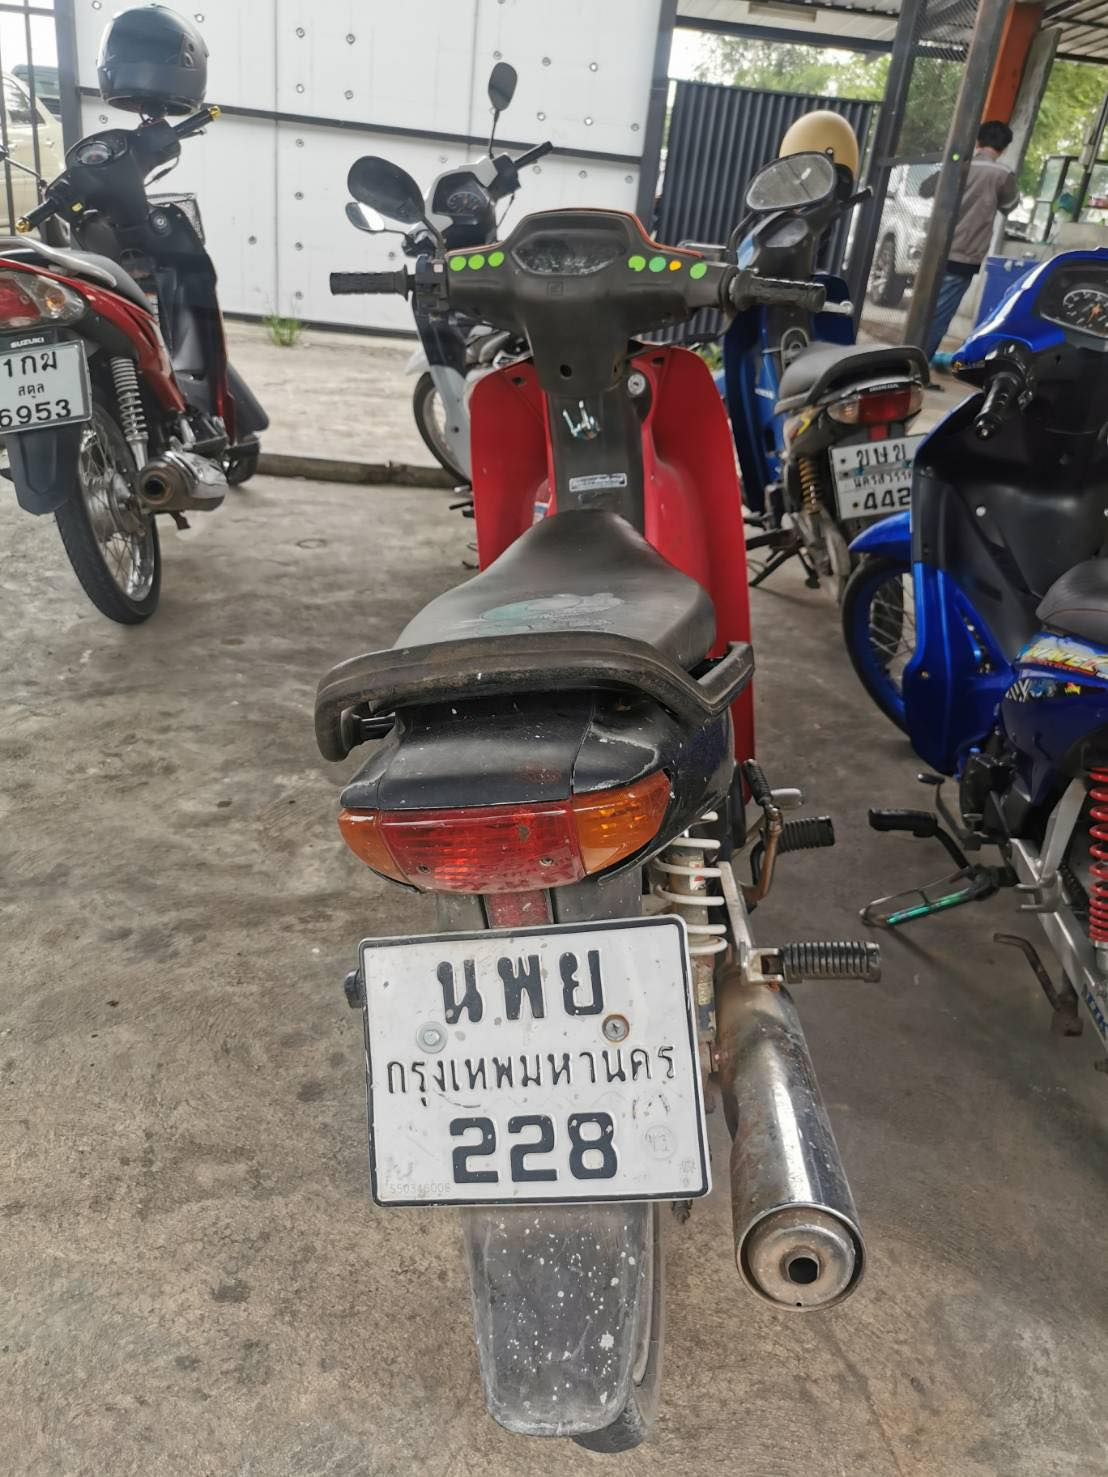line1: (429, 943, 615, 1036)
line2: (372, 1034, 695, 1113)
line3: (434, 1113, 635, 1210)
